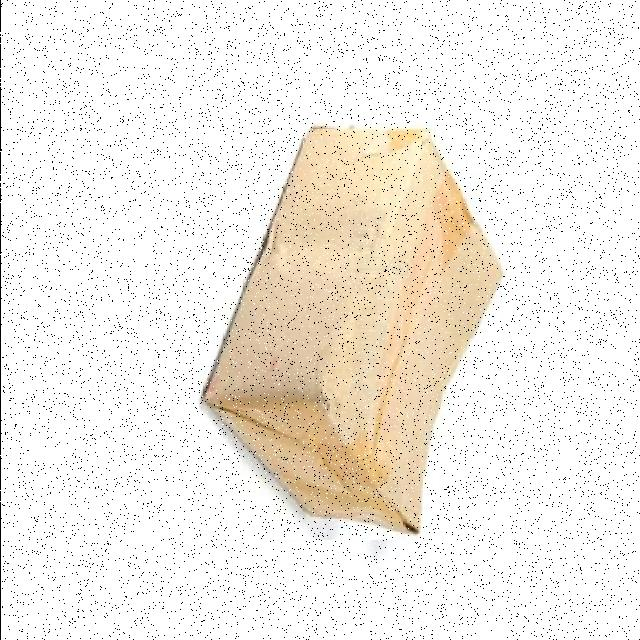defect: (197, 120, 506, 540)
